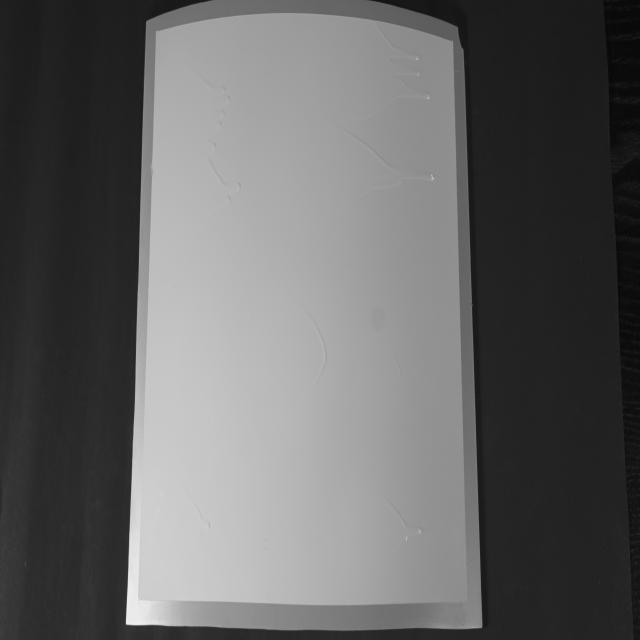paint drips: (340, 21, 437, 200), (195, 70, 243, 210), (382, 494, 427, 562), (304, 308, 330, 392), (187, 491, 214, 535), (389, 352, 404, 381)
